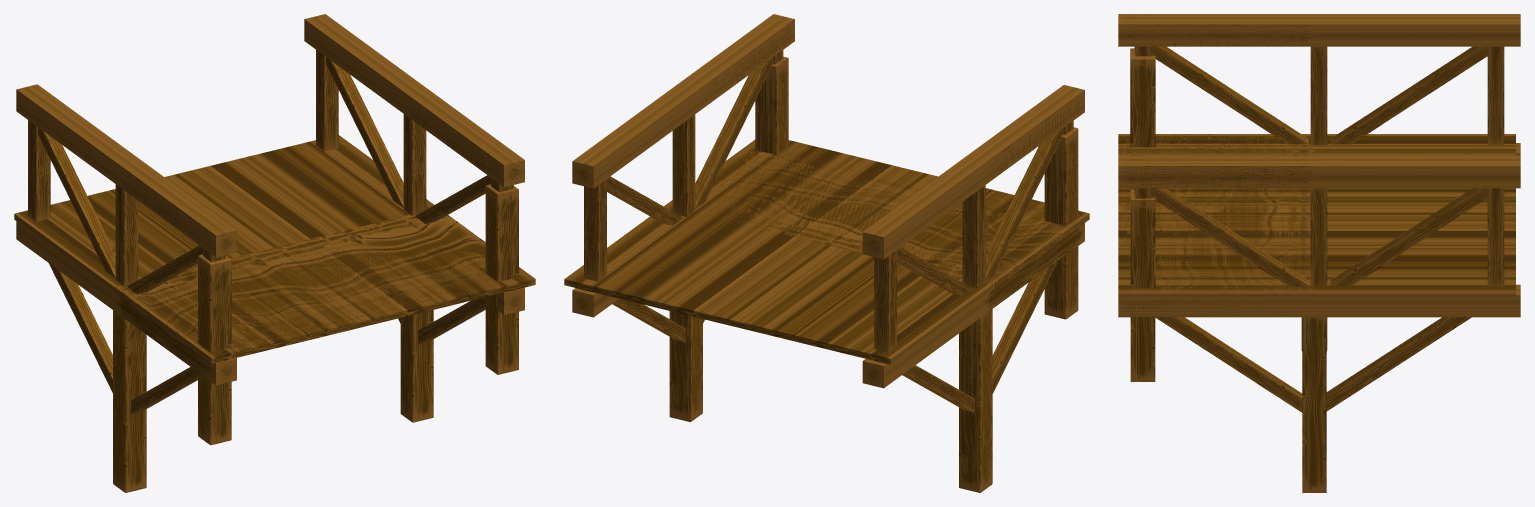
File: Puente_madera_Colliders.fbx
The picture shows the model from 3 angles, left to right: view 1: azimuth 30°, elevation 25°; view 2: azimuth 150°, elevation 25°; view 3: azimuth 270°, elevation 25°; orthographic projection.
Visible parts, largest first — view 1: Collider_P_M_madera_01, Collider_P_M_madera_02, Collider_P_M_madera_04, Collider_P_M_madera_03; view 2: Collider_P_M_madera_01, Collider_P_M_madera_02, Collider_P_M_madera_04, Collider_P_M_madera_03; view 3: Collider_P_M_madera_01, Collider_P_M_madera_02, Collider_P_M_madera_04, Collider_P_M_madera_03.
Boxes of the visible parts, <box> form: Collider_P_M_madera_01: <box>14,14,535,492</box>; Collider_P_M_madera_02: <box>114,93,533,385</box>; Collider_P_M_madera_04: <box>198,184,518,445</box>; Collider_P_M_madera_03: <box>16,90,215,256</box>; Collider_P_M_madera_01: <box>564,14,1089,492</box>; Collider_P_M_madera_02: <box>695,14,1089,314</box>; Collider_P_M_madera_04: <box>755,56,1078,319</box>; Collider_P_M_madera_03: <box>564,92,1084,388</box>; Collider_P_M_madera_01: <box>1118,14,1520,492</box>; Collider_P_M_madera_02: <box>1118,14,1318,317</box>; Collider_P_M_madera_04: <box>1130,48,1155,381</box>; Collider_P_M_madera_03: <box>1118,24,1520,299</box>.
Bounding box in the file's own units: 150 × 143 × 160.
